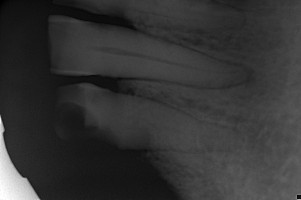Furcation Involvement: (244, 65, 254, 84)
